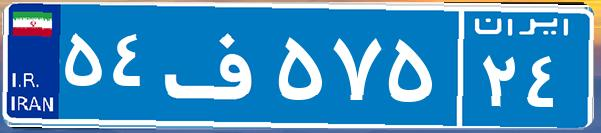2: (475, 38, 525, 113)
4: (110, 28, 158, 105), (525, 38, 570, 115)
5: (385, 28, 445, 110), (273, 28, 330, 110), (57, 26, 110, 107)
7: (330, 28, 385, 110)
ف: (158, 15, 273, 115)
